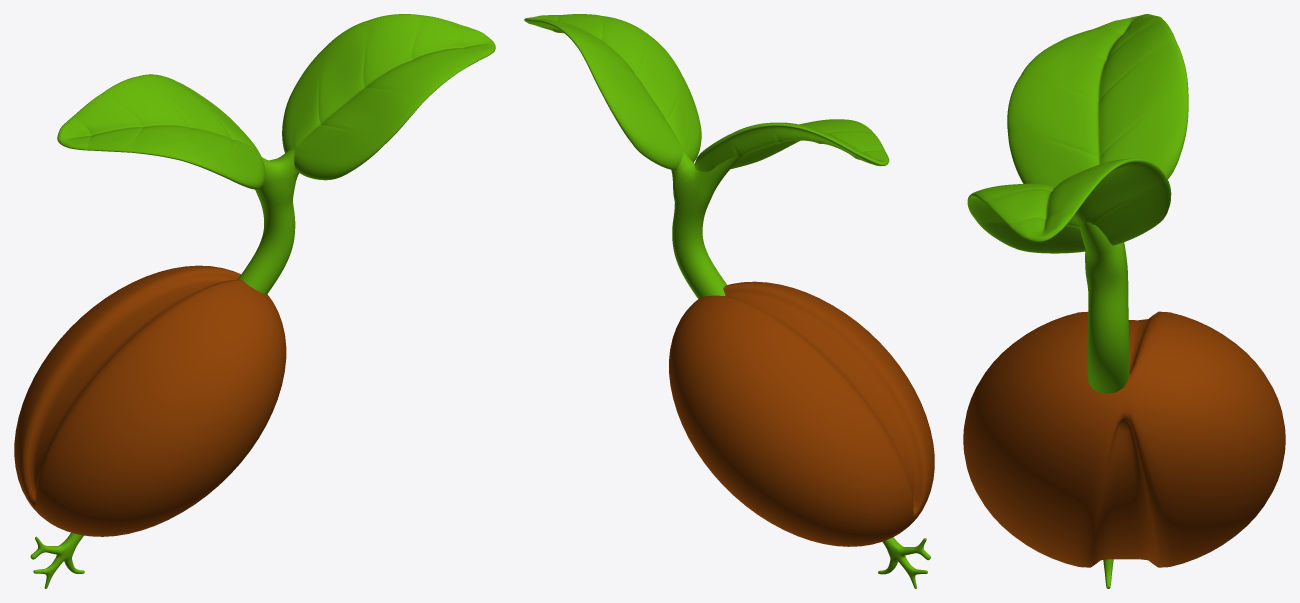
The model's file is Seed.glb.
3 views of the same model, side by side, from view 1: azimuth 30°, elevation 25°; view 2: azimuth 150°, elevation 25°; view 3: azimuth 270°, elevation 25° (orthographic). The views are drawn at different scales.
Parts seen in each view (by area): view 1: Sphere.017, Plane.040, Plane.041, Cube.125; view 2: Sphere.017, Plane.040, Cube.125, Plane.041; view 3: Sphere.017, Plane.041, Plane.040, Cube.125.
Part boxes in pixels (x1,y1,x2,y2): Sphere.017: [14, 265, 286, 536]; Plane.040: [282, 14, 495, 180]; Plane.041: [57, 74, 265, 189]; Cube.125: [30, 149, 298, 588]; Sphere.017: [669, 281, 934, 546]; Plane.040: [524, 14, 701, 170]; Cube.125: [671, 151, 930, 588]; Plane.041: [694, 119, 889, 172]; Sphere.017: [963, 311, 1285, 567]; Plane.041: [1007, 14, 1188, 186]; Plane.040: [967, 158, 1171, 253]; Cube.125: [1079, 222, 1129, 588].
Size of what is drawn, in the model's own units: 1.91 by 2.02 by 0.9318.
